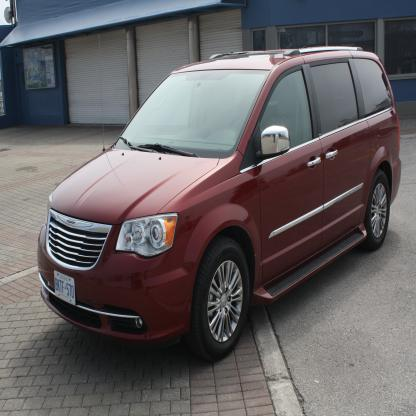Vehicle: (37, 46, 402, 360)
